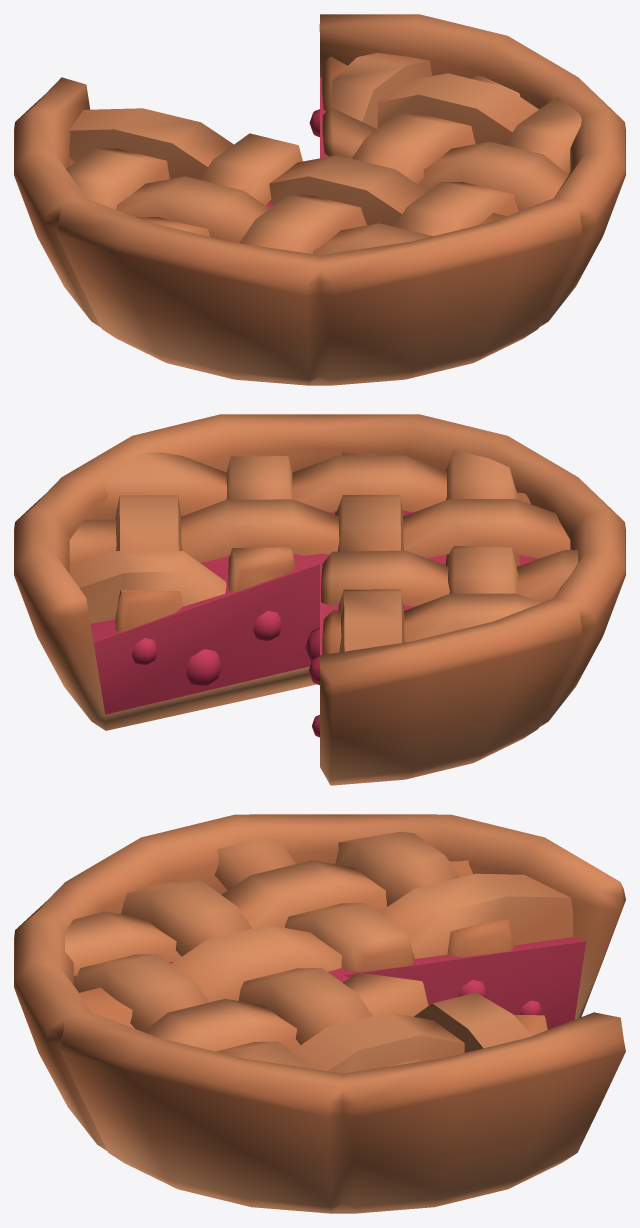
File: pie_cherry_cut.obj
The picture shows the model from 3 angles, top to bottom: view 1: azimuth 30°, elevation 25°; view 2: azimuth 150°, elevation 25°; view 3: azimuth 270°, elevation 25°; orthographic projection. The views are drawn at different scales.
Parts seen in each view (by area): view 1: pie_cherry_cut; view 2: pie_cherry_cut; view 3: pie_cherry_cut.
Part boxes in pixels (x1,y1,x2,y2): pie_cherry_cut: (14, 14, 625, 385); pie_cherry_cut: (14, 414, 625, 785); pie_cherry_cut: (14, 814, 625, 1213).
Bounding box in the file's own units: 1.16 × 0.3153 × 1.06.
Materials: 1 (1 with a texture image).
